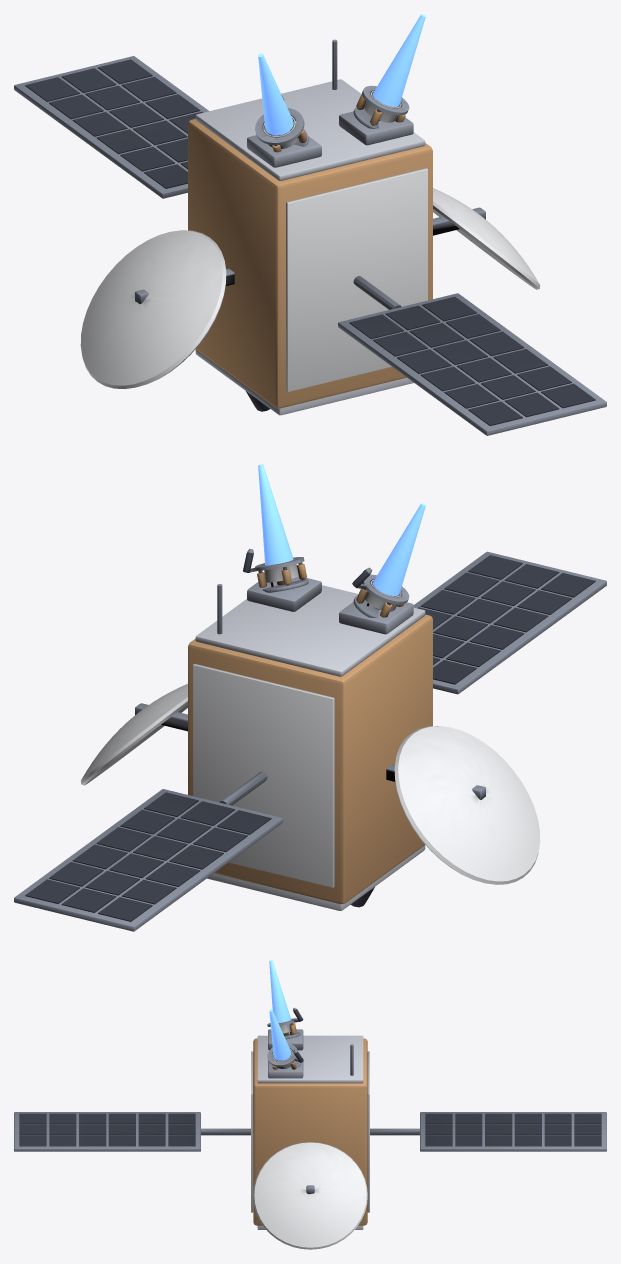
File: telecom-satellite.envelope.glb
3 renders of one model, top to bottom at view 1: azimuth 30°, elevation 25°; view 2: azimuth 150°, elevation 25°; view 3: azimuth 270°, elevation 25°, orthographic. The views are drawn at different scales.
Visible parts, largest first — view 1: telecom-satellite.white, telecom-satellite.graphite, telecom-satellite.warm, telecom-satellite.metal, telecom-satellite.light, telecom-satellite.mid, telecom-satellite.emissive; view 2: telecom-satellite.white, telecom-satellite.graphite, telecom-satellite.warm, telecom-satellite.metal, telecom-satellite.light, telecom-satellite.mid, telecom-satellite.emissive; view 3: telecom-satellite.graphite, telecom-satellite.white, telecom-satellite.warm, telecom-satellite.metal, telecom-satellite.light, telecom-satellite.emissive, telecom-satellite.mid.
Part boxes in pixels (box(x1,y1,x2,y2)): telecom-satellite.white: box(80, 90, 540, 391); telecom-satellite.graphite: box(25, 59, 595, 425); telecom-satellite.warm: box(188, 94, 432, 408); telecom-satellite.metal: box(14, 39, 606, 435); telecom-satellite.light: box(195, 79, 425, 415); telecom-satellite.mid: box(247, 85, 413, 167); telecom-satellite.emissive: box(258, 14, 425, 135); telecom-satellite.white: box(81, 558, 540, 887); telecom-satellite.graphite: box(25, 552, 595, 921); telecom-satellite.warm: box(188, 563, 432, 904); telecom-satellite.metal: box(14, 548, 606, 931); telecom-satellite.light: box(195, 585, 425, 910); telecom-satellite.mid: box(247, 557, 413, 634); telecom-satellite.emissive: box(258, 464, 425, 595); telecom-satellite.graphite: box(19, 1009, 601, 1146); telecom-satellite.white: box(251, 1019, 369, 1249); telecom-satellite.warm: box(253, 1022, 367, 1225); telecom-satellite.metal: box(14, 1007, 606, 1193); telecom-satellite.light: box(257, 1035, 363, 1229); telecom-satellite.emissive: box(269, 960, 291, 1060); telecom-satellite.mid: box(267, 1018, 303, 1078).
Bounding box in the file's own units: 1.49 × 1.28 × 2.85.
